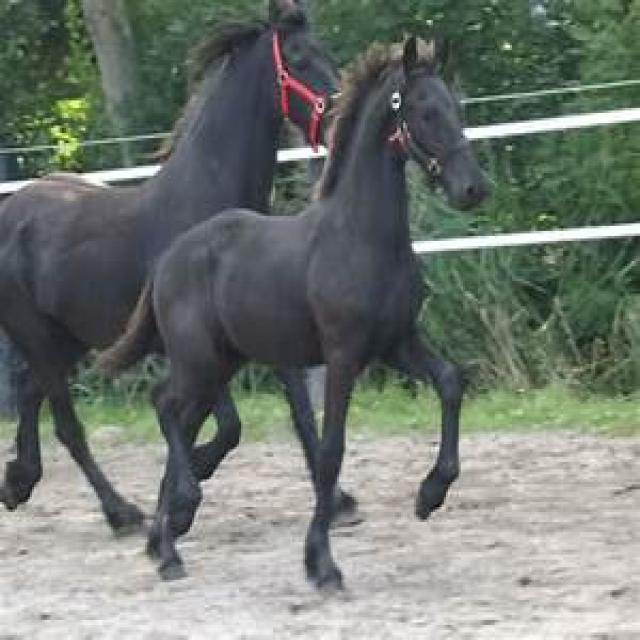horse: (149, 41, 485, 587), (0, 3, 338, 529)
